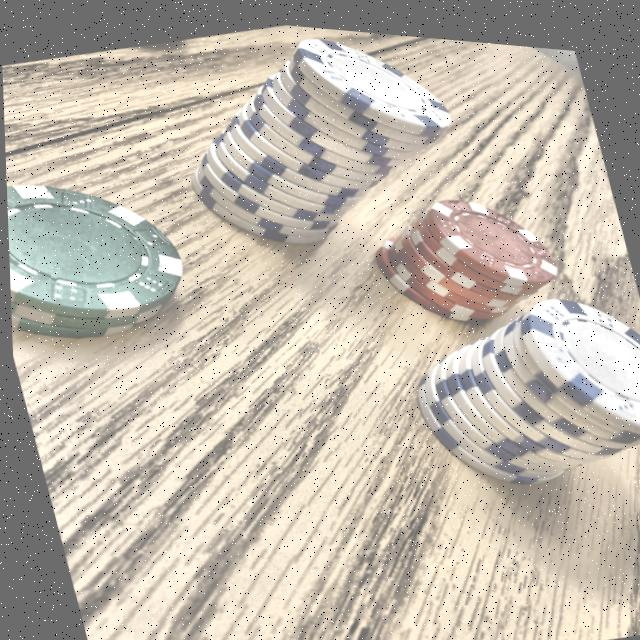Chip: (156, 11, 492, 285), (373, 246, 640, 514), (3, 87, 227, 397), (347, 136, 588, 358)
